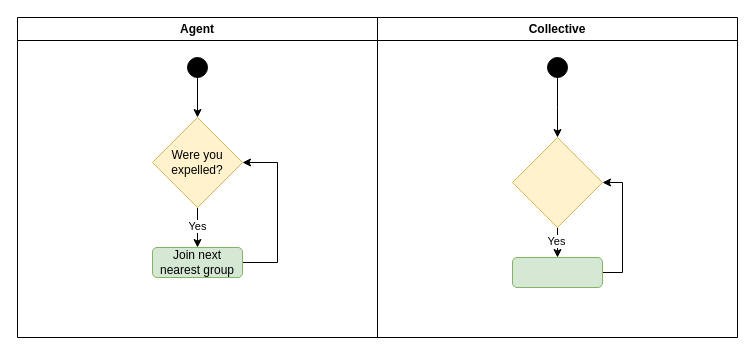
The diagram is 755 pixels wide and 355 high, and some of its shapes have lost their labels. The centre of each missing label's shape, as x and y in pixels:
"Does there exist a minority?" belongs at point (557, 182).
"Expel the minority" belongs at point (557, 272).
